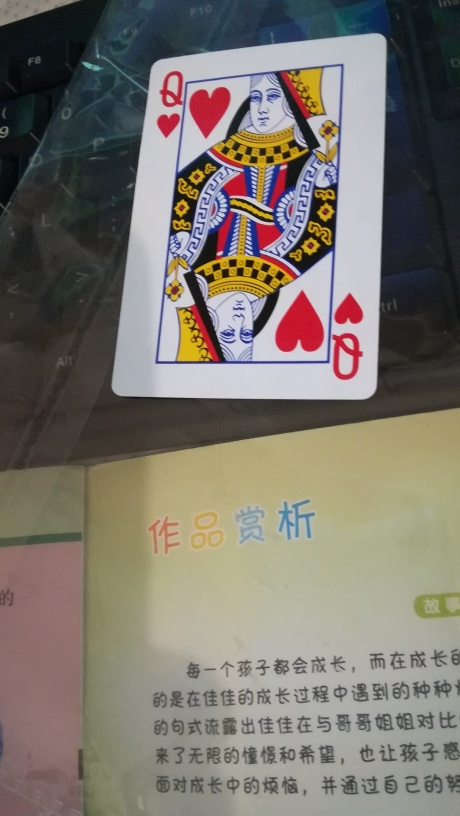hx q: (110, 35, 379, 405)
